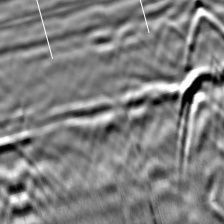Utility: (174, 66, 224, 177), (179, 1, 224, 63)
